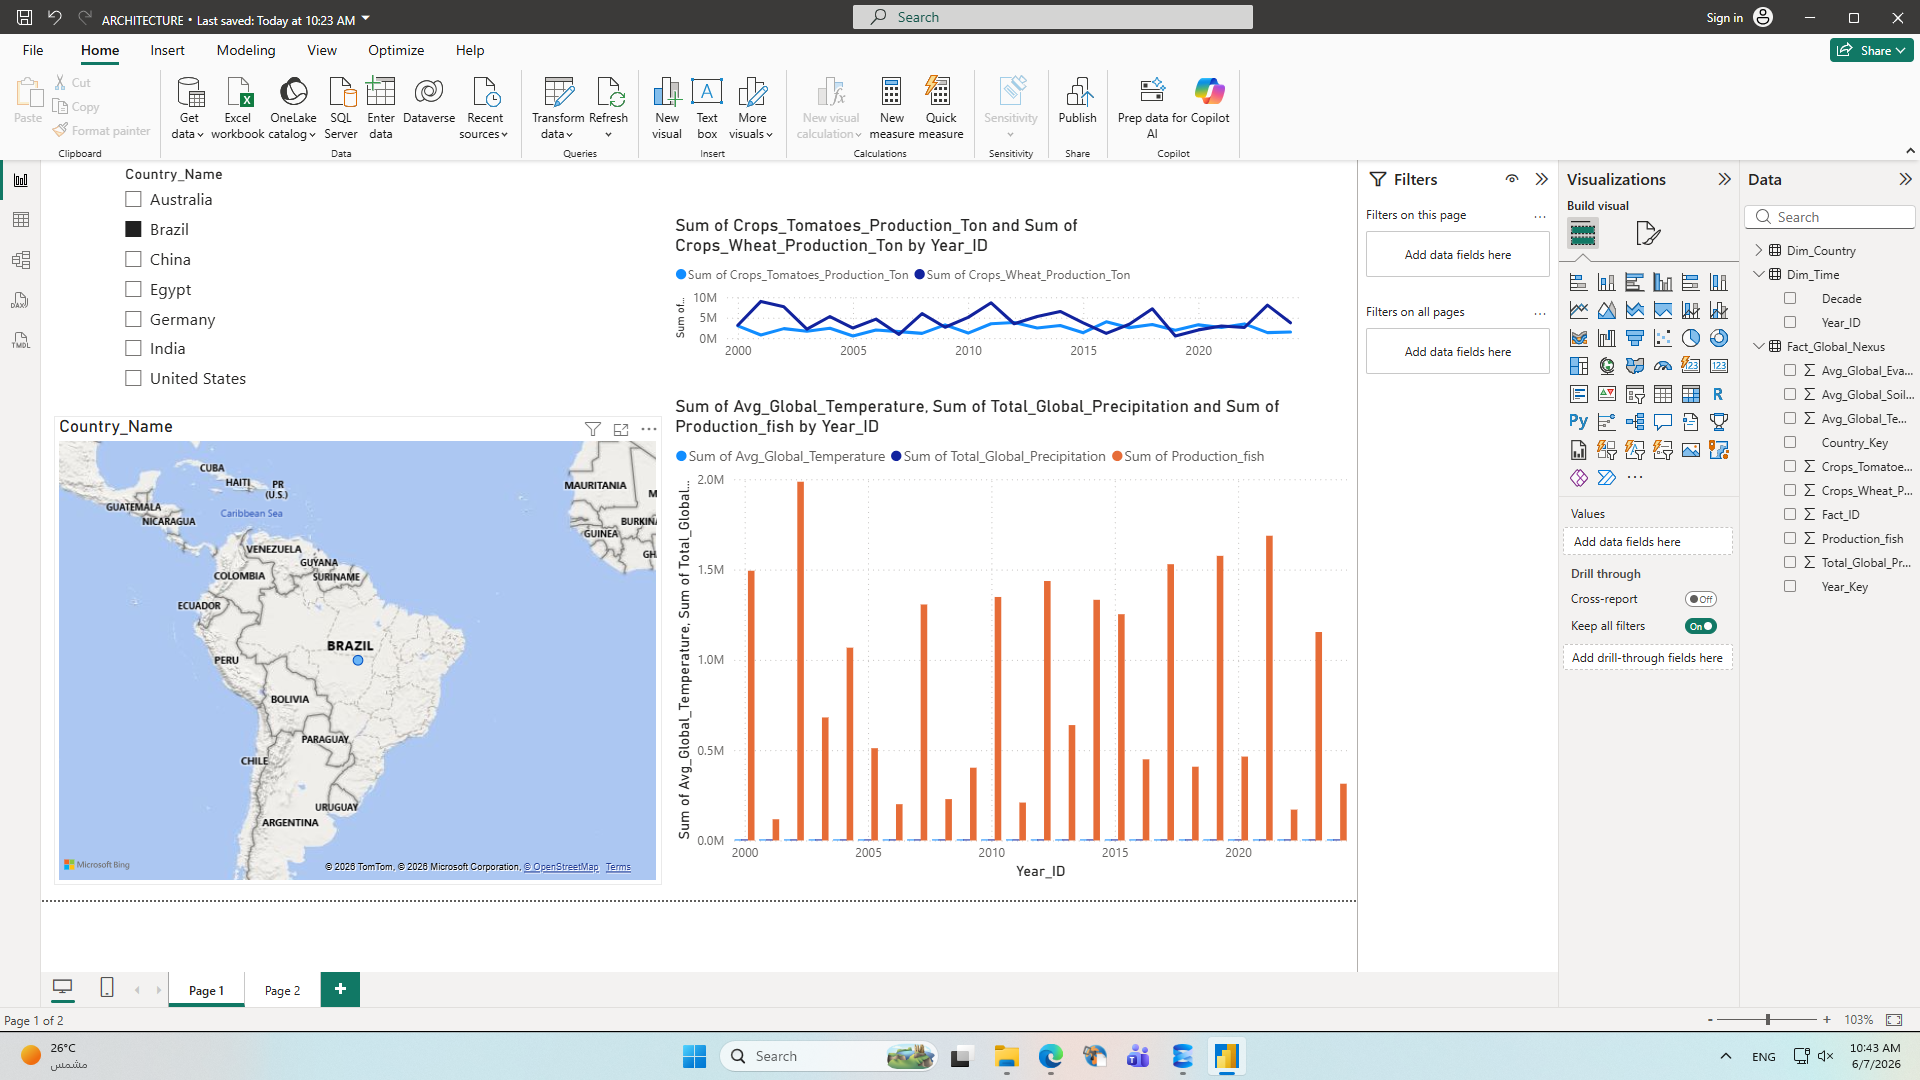

The page's visual inventory and layout, read from the dashboard file:
{"tool":"powerbi","page":{"name":"Page 1","canvas":[1280,720],"ordinal":0},"visuals":[{"type":"slicer","fields":{"Values":["Dim_Country.Country_Name"]},"box":[69.1,0,280.1,280.1],"z":0},{"type":"lineChart","fields":{"Category":["Dim_Time.Year_ID"],"Y":["Sum(Fact_Global_Nexus.Crops_Tomatoes_Production_Ton)","Sum(Fact_Global_Nexus.Crops_Wheat_Production_Ton)"]},"box":[611.8,53.5,621.5,149.8],"z":1000},{"type":"map","fields":{"Category":["Dim_Country.Country_Name"]},"box":[12.6,249,591.4,456.2],"z":2000},{"type":"clusteredColumnChart","fields":{"Y":["Sum(Fact_Global_Nexus.Avg_Global_Temperature)","Sum(Fact_Global_Nexus.Total_Global_Precipitation)","Sum(Fact_Global_Nexus.Production_MT)"],"Category":["Dim_Time.Year_ID"]},"box":[611.8,229.5,668.2,475.6],"z":3000}]}

Visuals, with their boxes on the page's 1280x720 design canvas (x1, y1, x2, y2). These are canvas units, not pixel positions in the 1920x1080 screenshot, which may show the page scaled, cropped or inside an application window:
slicer - Dim_Country.Country_Name: bbox=(69, 0, 349, 280)
lineChart - Dim_Time.Year_ID x Sum(Fact_Global_Nexus.Crops_Tomatoes_Production_Ton): bbox=(612, 54, 1233, 203)
map - Dim_Country.Country_Name: bbox=(13, 249, 604, 705)
clusteredColumnChart - Sum(Fact_Global_Nexus.Avg_Global_Temperature) x Sum(Fact_Global_Nexus.Total_Global_Precipitation): bbox=(612, 230, 1280, 705)
